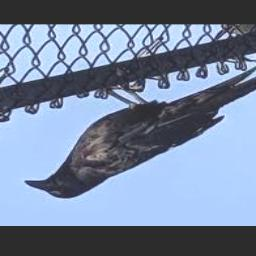Crow: (24, 65, 256, 199)
